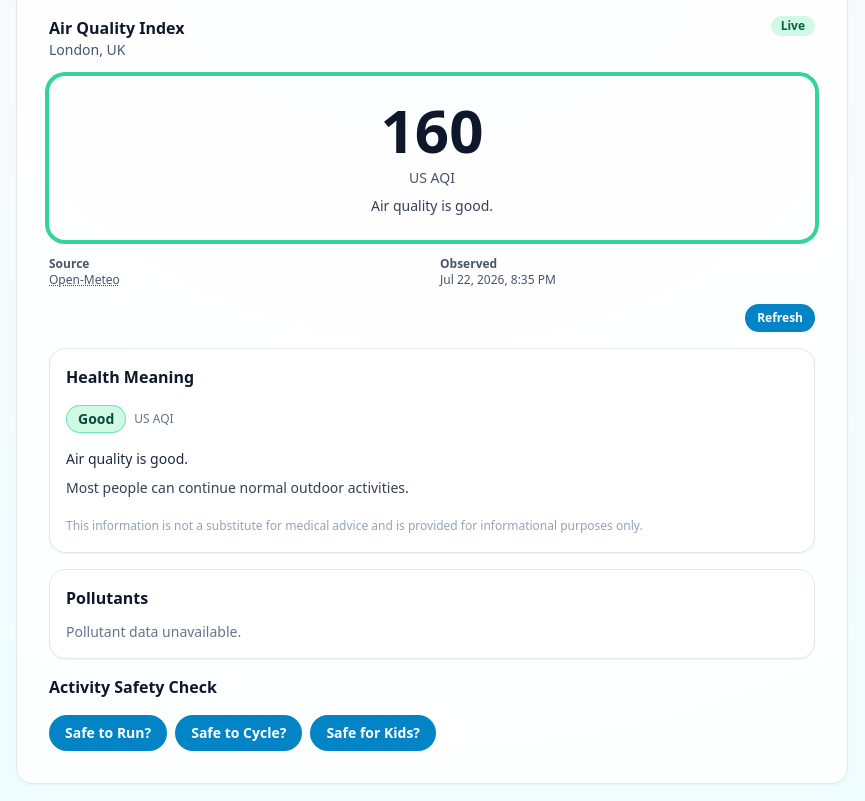
Test case: Activity Safety Check – Kids golden path › AQI 160: tapping Safe for Kids? shows Stay inside
(page scrolled)
Expected: the button "Safe to Run?" is shown, [49,715,167,751]
Click the button "Safe for Kids?" at (373, 733), box [310,715,436,751]
(page scrolled)
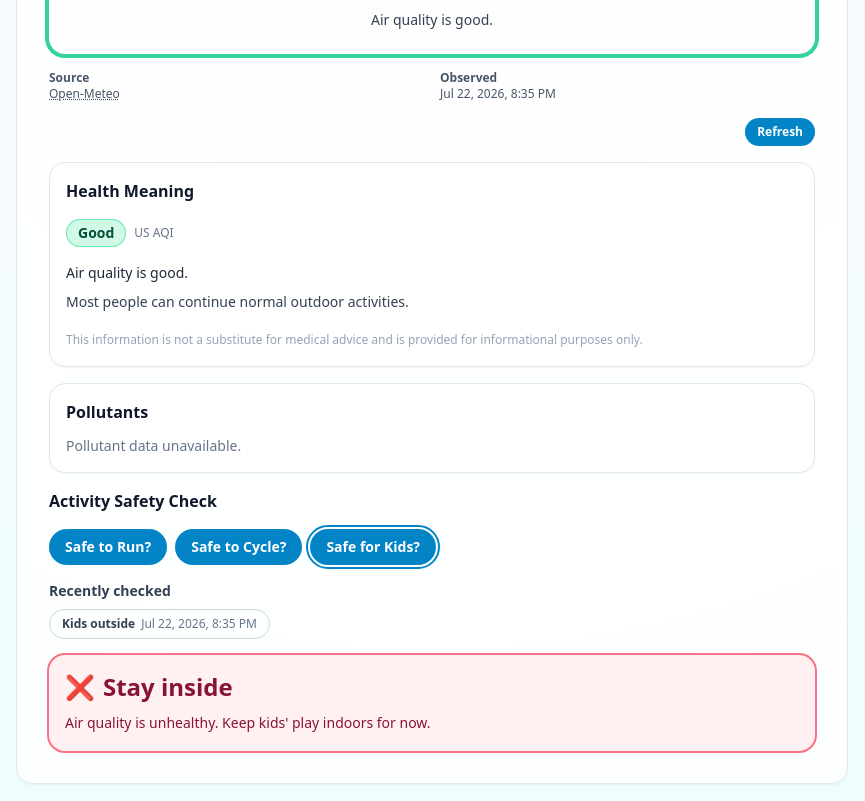
Now the text "Stay inside" is shown, box [103,671,233,703]
